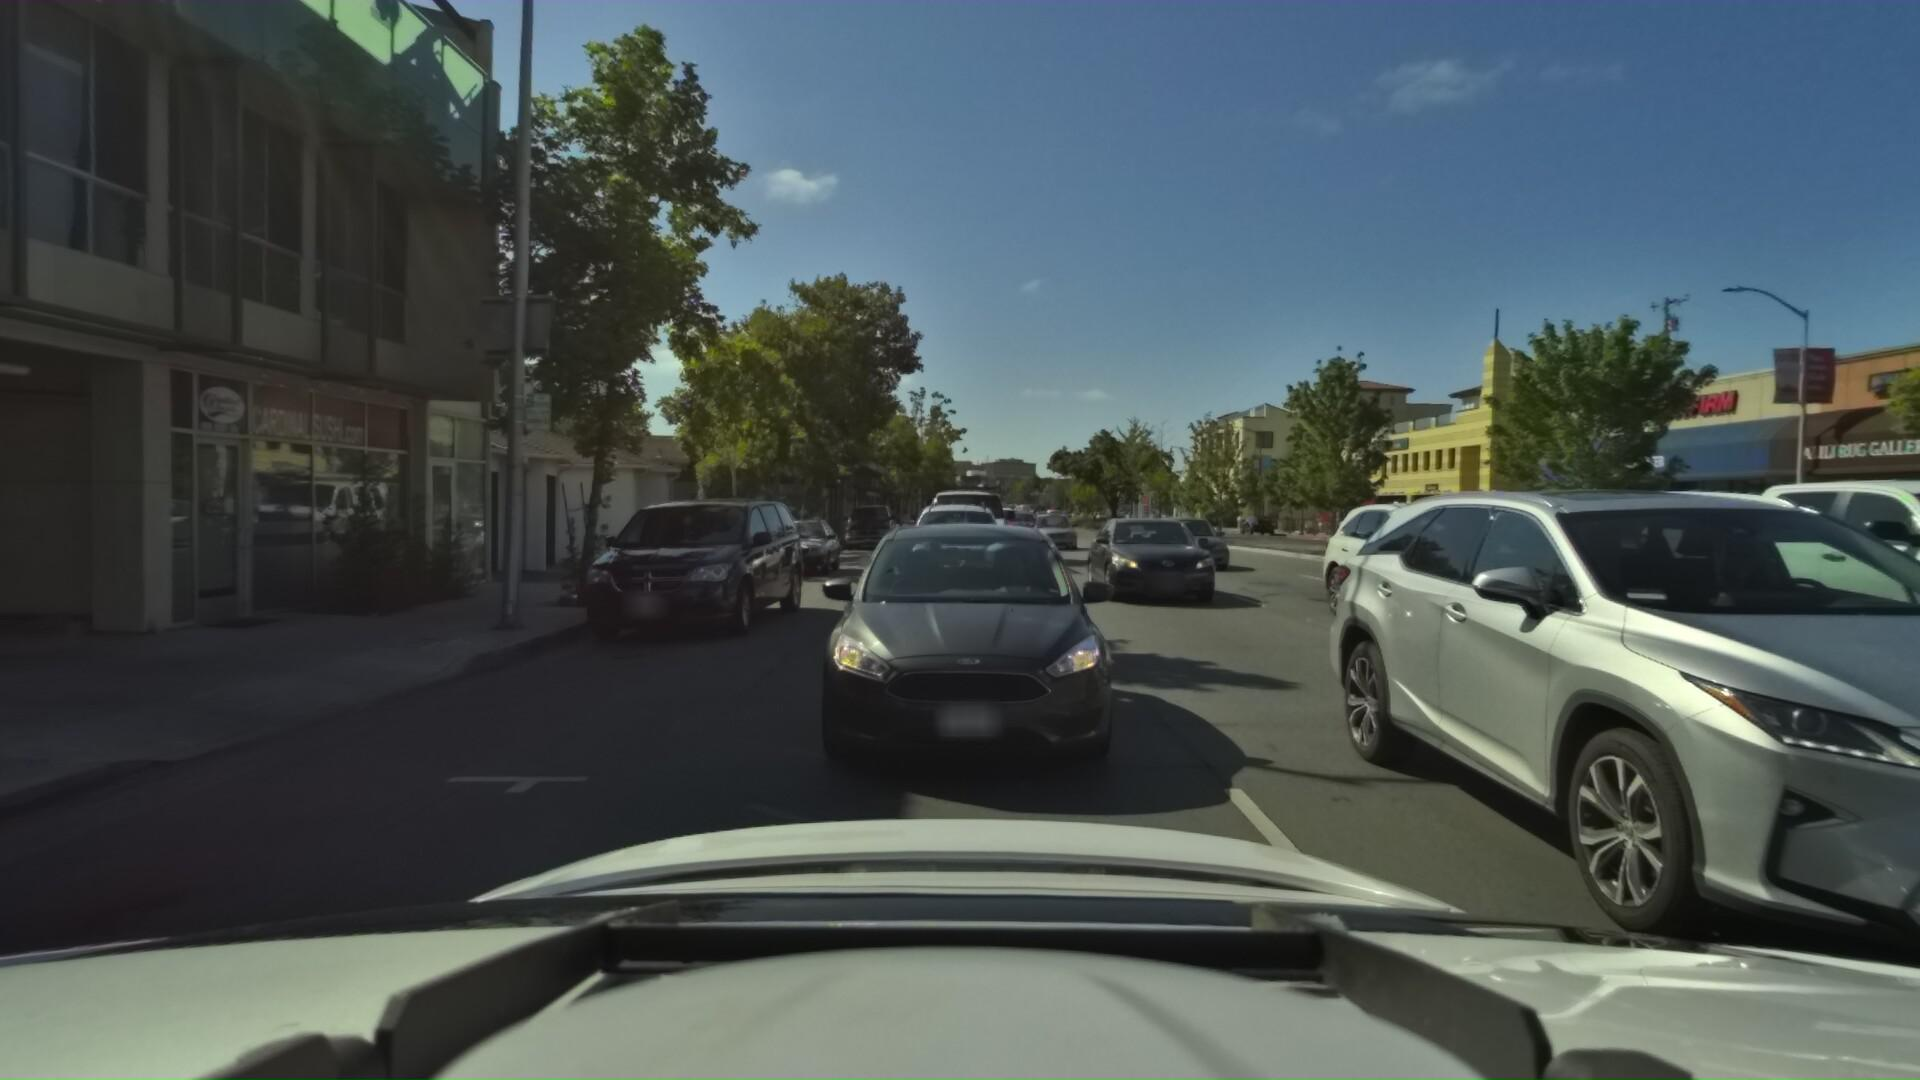car: (1282, 438, 1920, 1035), (791, 508, 1139, 808), (1615, 452, 1920, 738), (1313, 495, 1604, 647), (554, 488, 812, 650), (1075, 504, 1222, 603), (894, 498, 1009, 603), (918, 465, 1011, 564), (1139, 508, 1234, 570), (760, 512, 843, 578), (839, 498, 903, 550), (1026, 505, 1080, 547), (1905, 514, 1920, 615), (1001, 502, 1044, 535), (1240, 510, 1275, 531)
